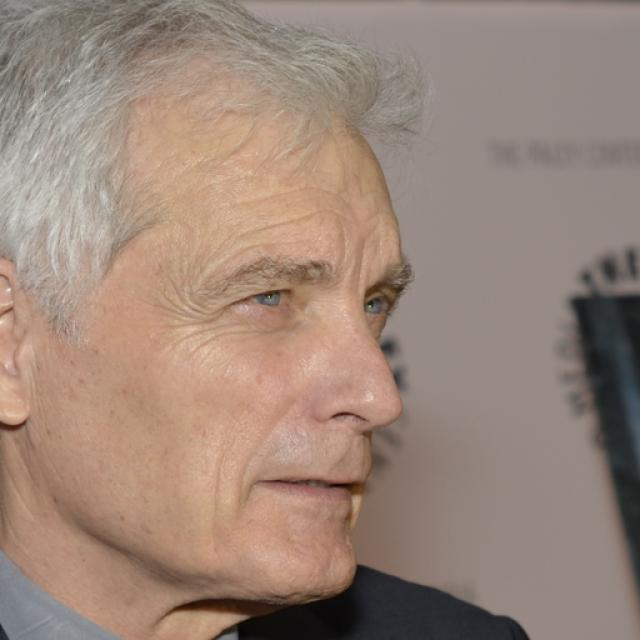Wrinkle: (239, 199, 364, 244), (232, 415, 281, 522), (209, 231, 307, 282), (229, 179, 350, 212), (202, 455, 230, 553)
